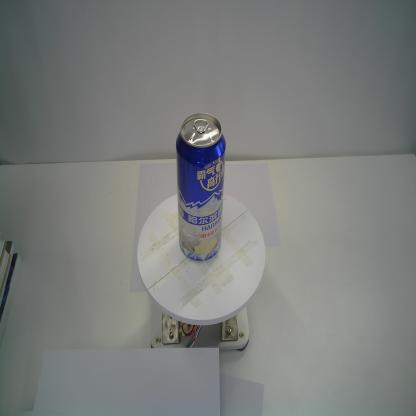Alcohol: (174, 111, 228, 264)
